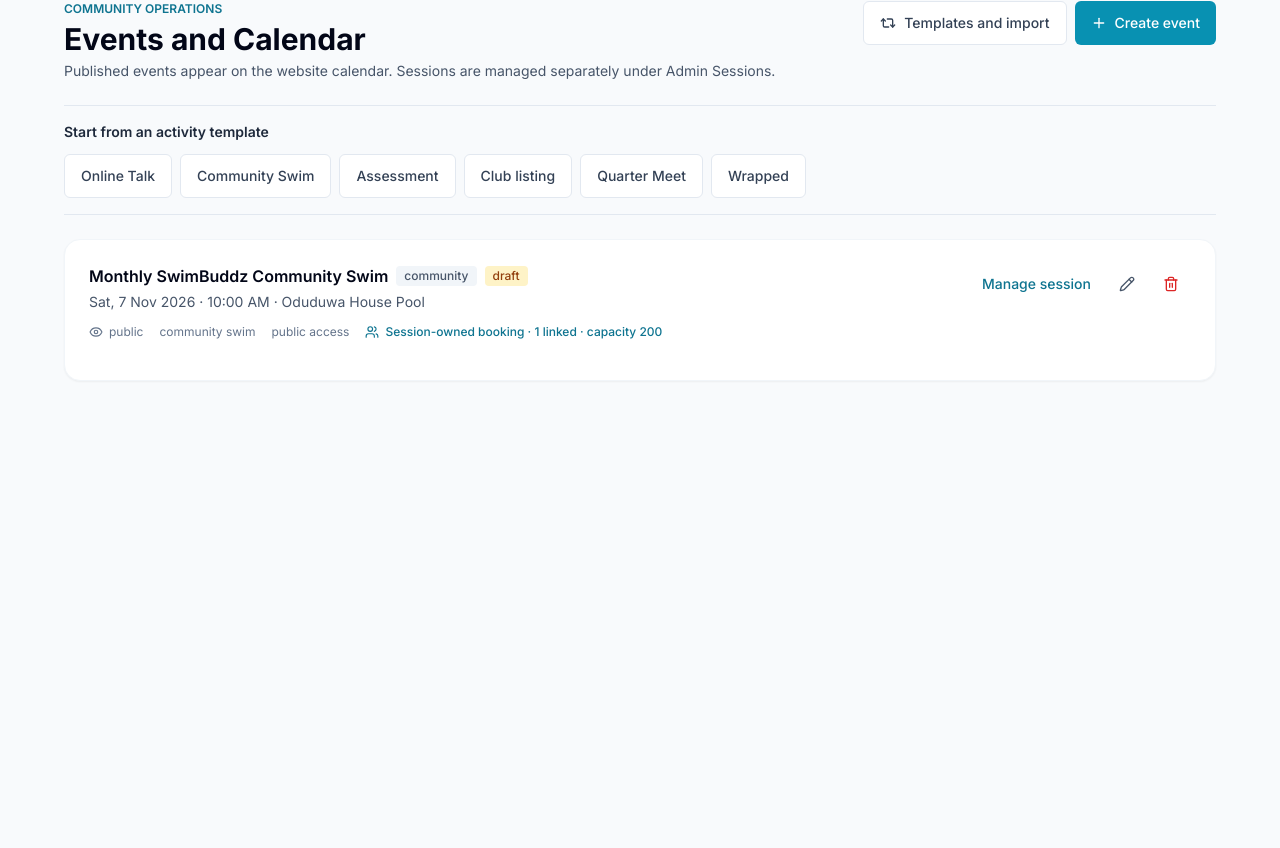
Scenario: Admin Event editor › publishes the existing draft while preserving its accepted capacity and times
Step 1. Click the button named "Edit Monthly SwimBuddz Community Swim" → (1127, 284), box [1107,264,1147,304]
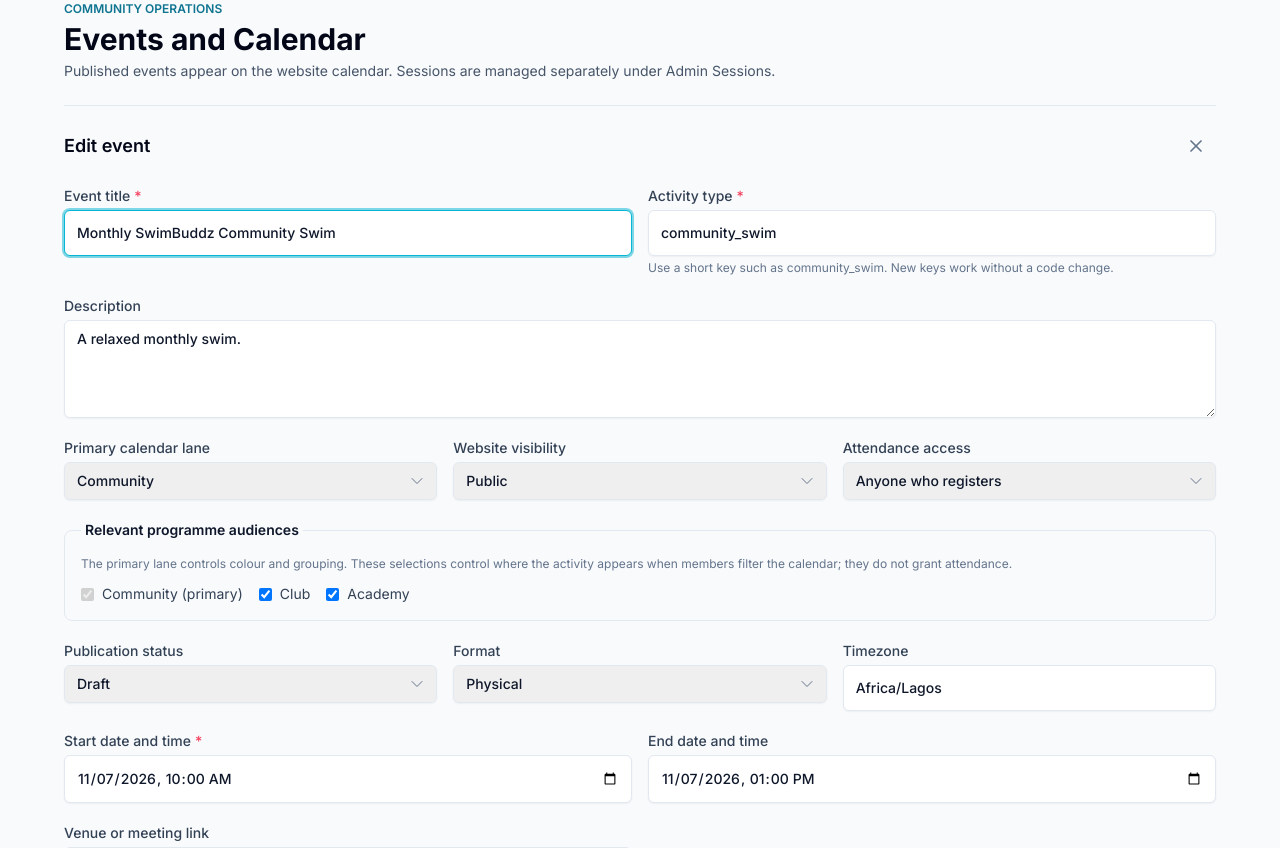
Step 2. Select "Published" in the dropdown labelled "Publication status" → (251, 684), box [64,665,437,703]
(page scrolled)
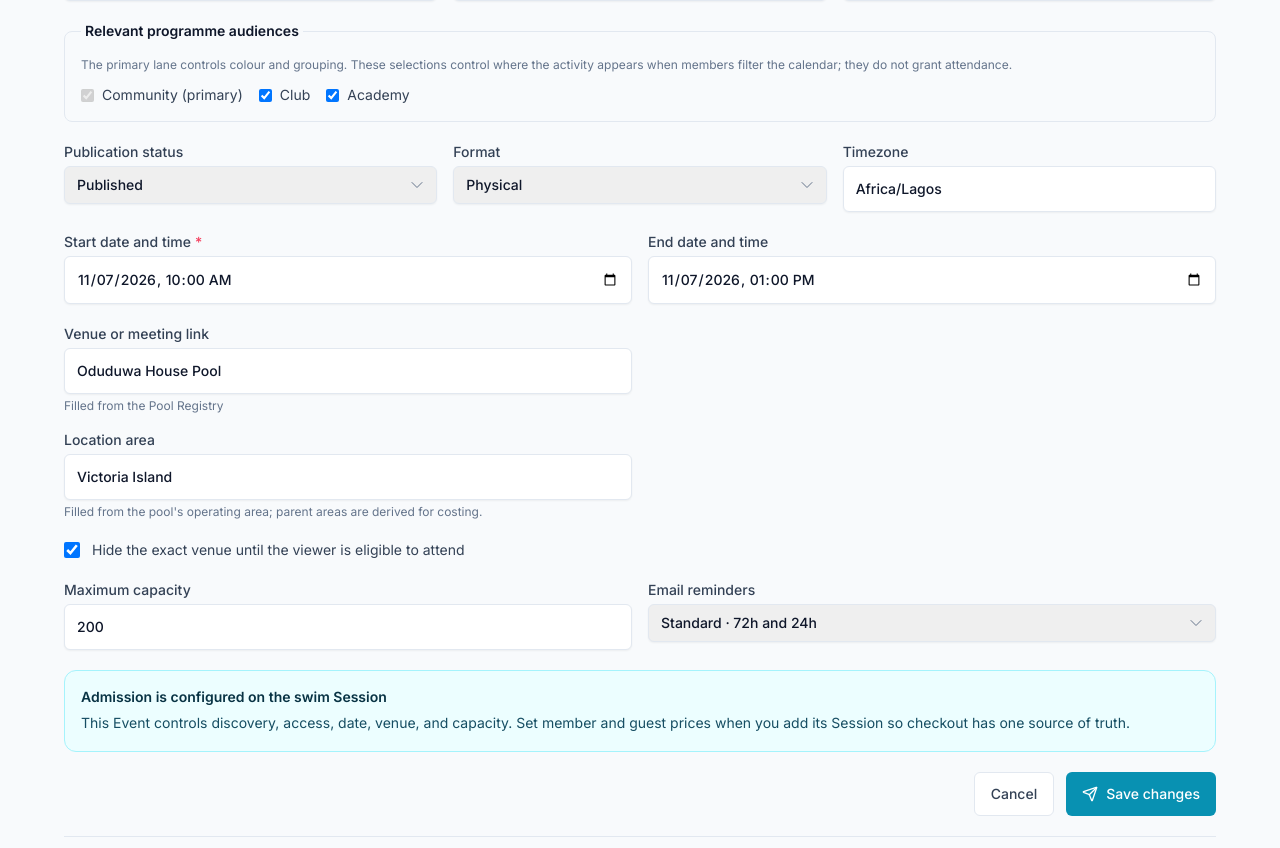
Step 3. Click the button "Save changes" → (1141, 794), box [1066,772,1216,816]
(page scrolled)
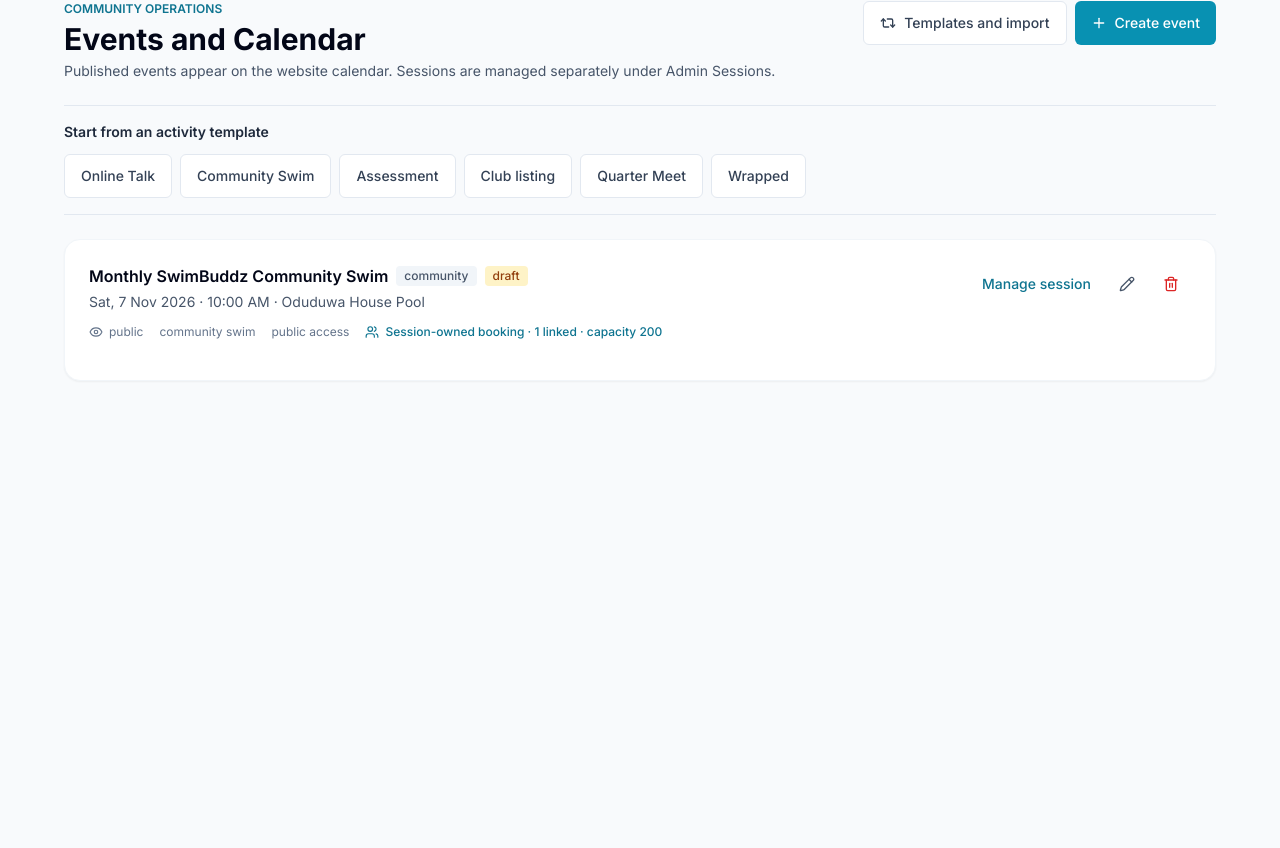
Check: the button "Save changes" is gone
